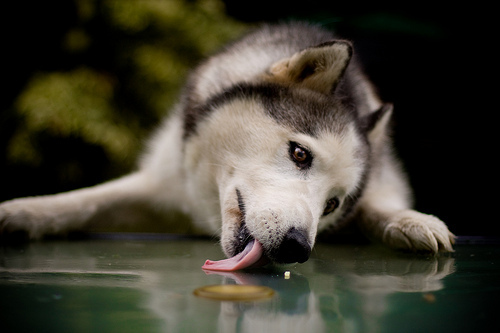dog: (1, 17, 456, 272)
